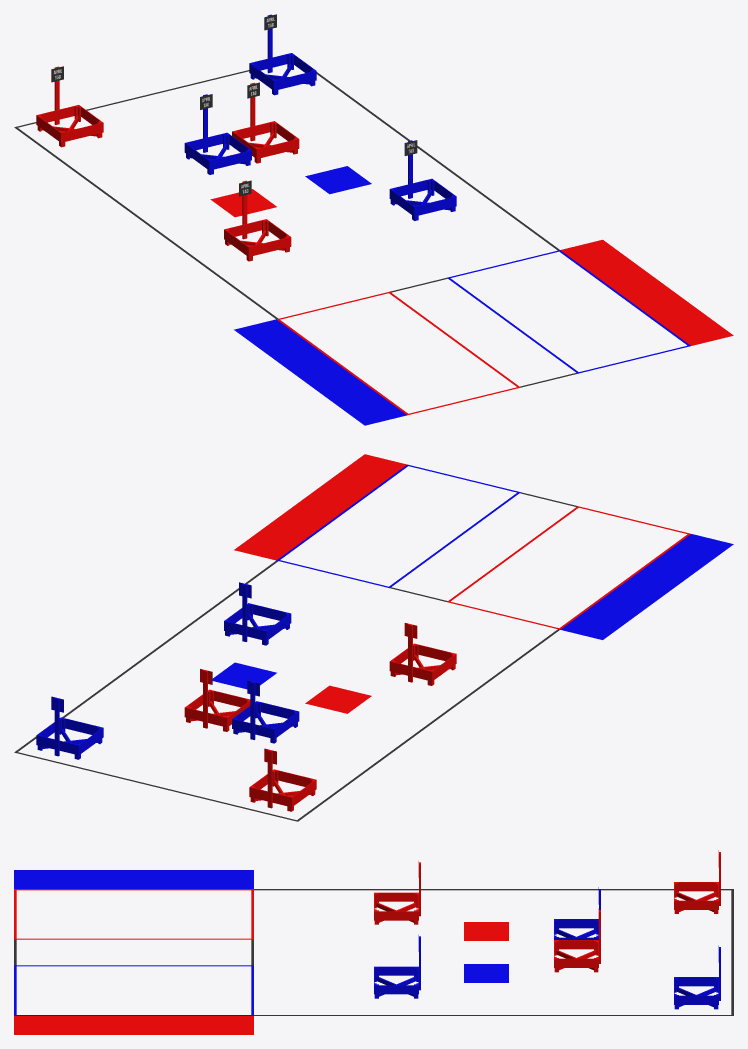
The model's file is LobbinLoco.glb.
3 renders of one model, top to bottom at view 1: azimuth 30°, elevation 25°; view 2: azimuth 150°, elevation 25°; view 3: azimuth 270°, elevation 25°, orthographic. The views are drawn at different scales.
Visible parts, largest first — view 1: Blue HPS, Red HPS, Blue Goal (×3), Red Goal (×3), Field Boarder, Red Zone, Blue Zone, Blue DHP, Red DHP; view 2: Blue Goal (×3), Blue HPS, Red HPS, Red Goal (×3), Field Boarder, Blue Zone, Red Zone, Red DHP, Blue DHP; view 3: Blue HPS, Red HPS, Red Goal (×3), Blue Goal (×3), Field Boarder, Red Zone, Blue Zone, Red DHP, Blue DHP.
Part boxes in pixels (x1=…): Blue HPS: x1=234, y1=319, x2=406, y2=425; Red HPS: x1=560, y1=239, x2=733, y2=345; Blue Goal (×3): x1=184, y1=14, x2=456, y2=220; Red Goal (×3): x1=36, y1=66, x2=299, y2=261; Field Boarder: x1=14, y1=70, x2=577, y2=387; Red Zone: x1=277, y1=291, x2=520, y2=415; Blue Zone: x1=447, y1=250, x2=690, y2=373; Blue DHP: x1=305, y1=166, x2=371, y2=194; Red DHP: x1=210, y1=189, x2=276, y2=217; Blue Goal (×3): x1=36, y1=582, x2=299, y2=759; Blue HPS: x1=560, y1=534, x2=733, y2=639; Red HPS: x1=234, y1=454, x2=406, y2=560; Red Goal (×3): x1=184, y1=623, x2=456, y2=811; Field Boarder: x1=14, y1=492, x2=577, y2=821; Blue Zone: x1=276, y1=464, x2=520, y2=588; Red Zone: x1=447, y1=506, x2=690, y2=629; Red DHP: x1=305, y1=685, x2=371, y2=713; Blue DHP: x1=212, y1=662, x2=276, y2=689; Blue HPS: x1=14, y1=870, x2=253, y2=888; Red HPS: x1=14, y1=1016, x2=253, y2=1034; Red Goal (×3): x1=374, y1=850, x2=720, y2=972; Blue Goal (×3): x1=374, y1=887, x2=720, y2=1009; Field Boarder: x1=14, y1=889, x2=733, y2=1015; Red Zone: x1=14, y1=889, x2=253, y2=939; Blue Zone: x1=14, y1=965, x2=253, y2=1015; Red DHP: x1=464, y1=922, x2=508, y2=940; Blue DHP: x1=464, y1=964, x2=508, y2=982.
Bounding box in the file's own units: 7.92 × 1.17 × 14.63.
